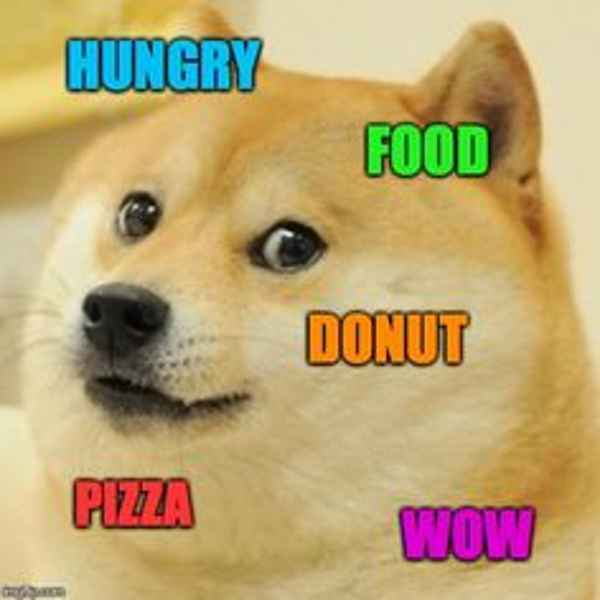doge: (43, 4, 557, 563)
